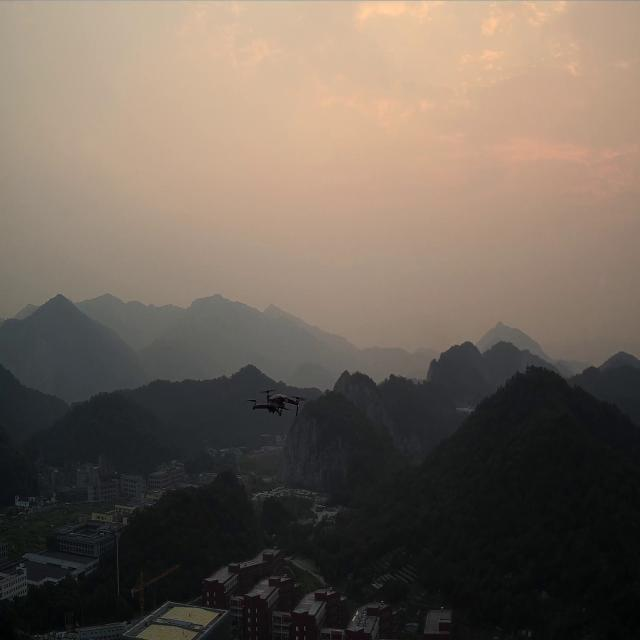UAV: (246, 388, 306, 416)
